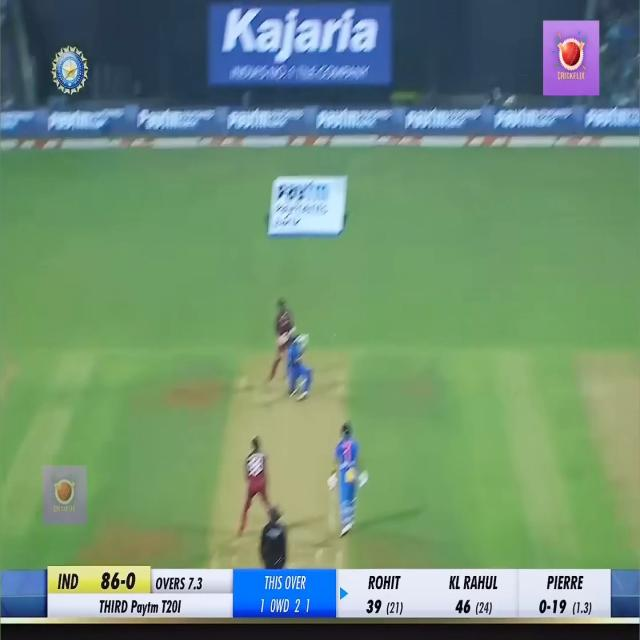partially_visible: (276, 176, 334, 208)
